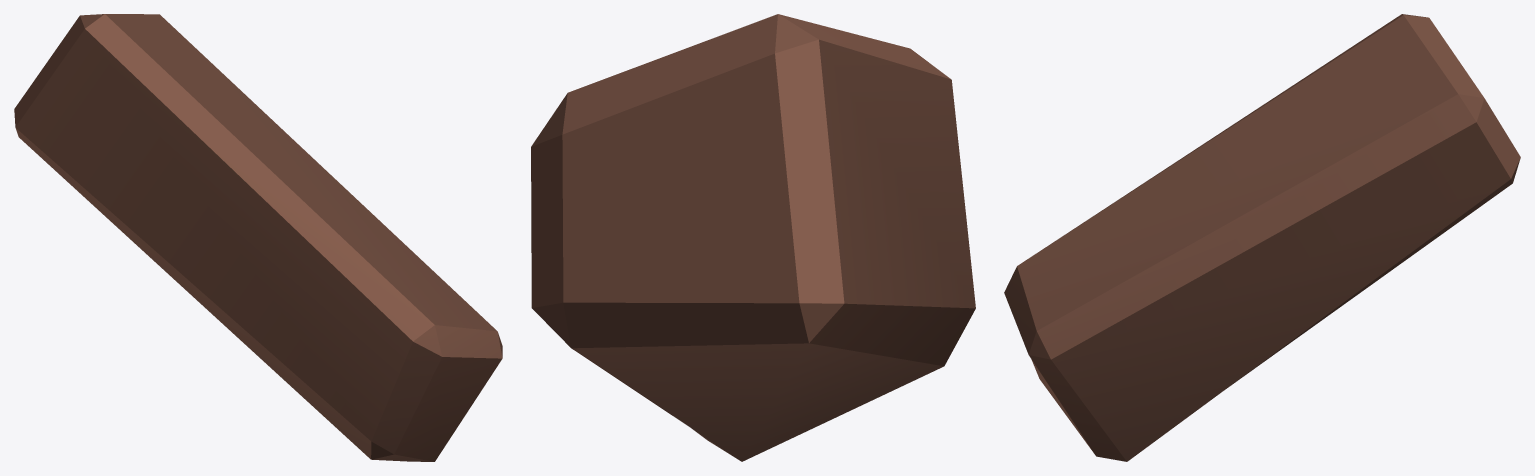
Rendered from rubble_shard.glb.
3 views of the same model, side by side, from view 1: azimuth 30°, elevation 25°; view 2: azimuth 150°, elevation 25°; view 3: azimuth 270°, elevation 25° (orthographic). The views are drawn at different scales.
Visible parts, largest first — view 1: rubble_shard; view 2: rubble_shard; view 3: rubble_shard.
Part boxes in pixels (bbox=[...]): rubble_shard: bbox=[14, 14, 502, 461]; rubble_shard: bbox=[531, 14, 975, 461]; rubble_shard: bbox=[1004, 14, 1520, 461].
Bounding box in the file's own units: 0.1816 × 0.2388 × 0.3028.
